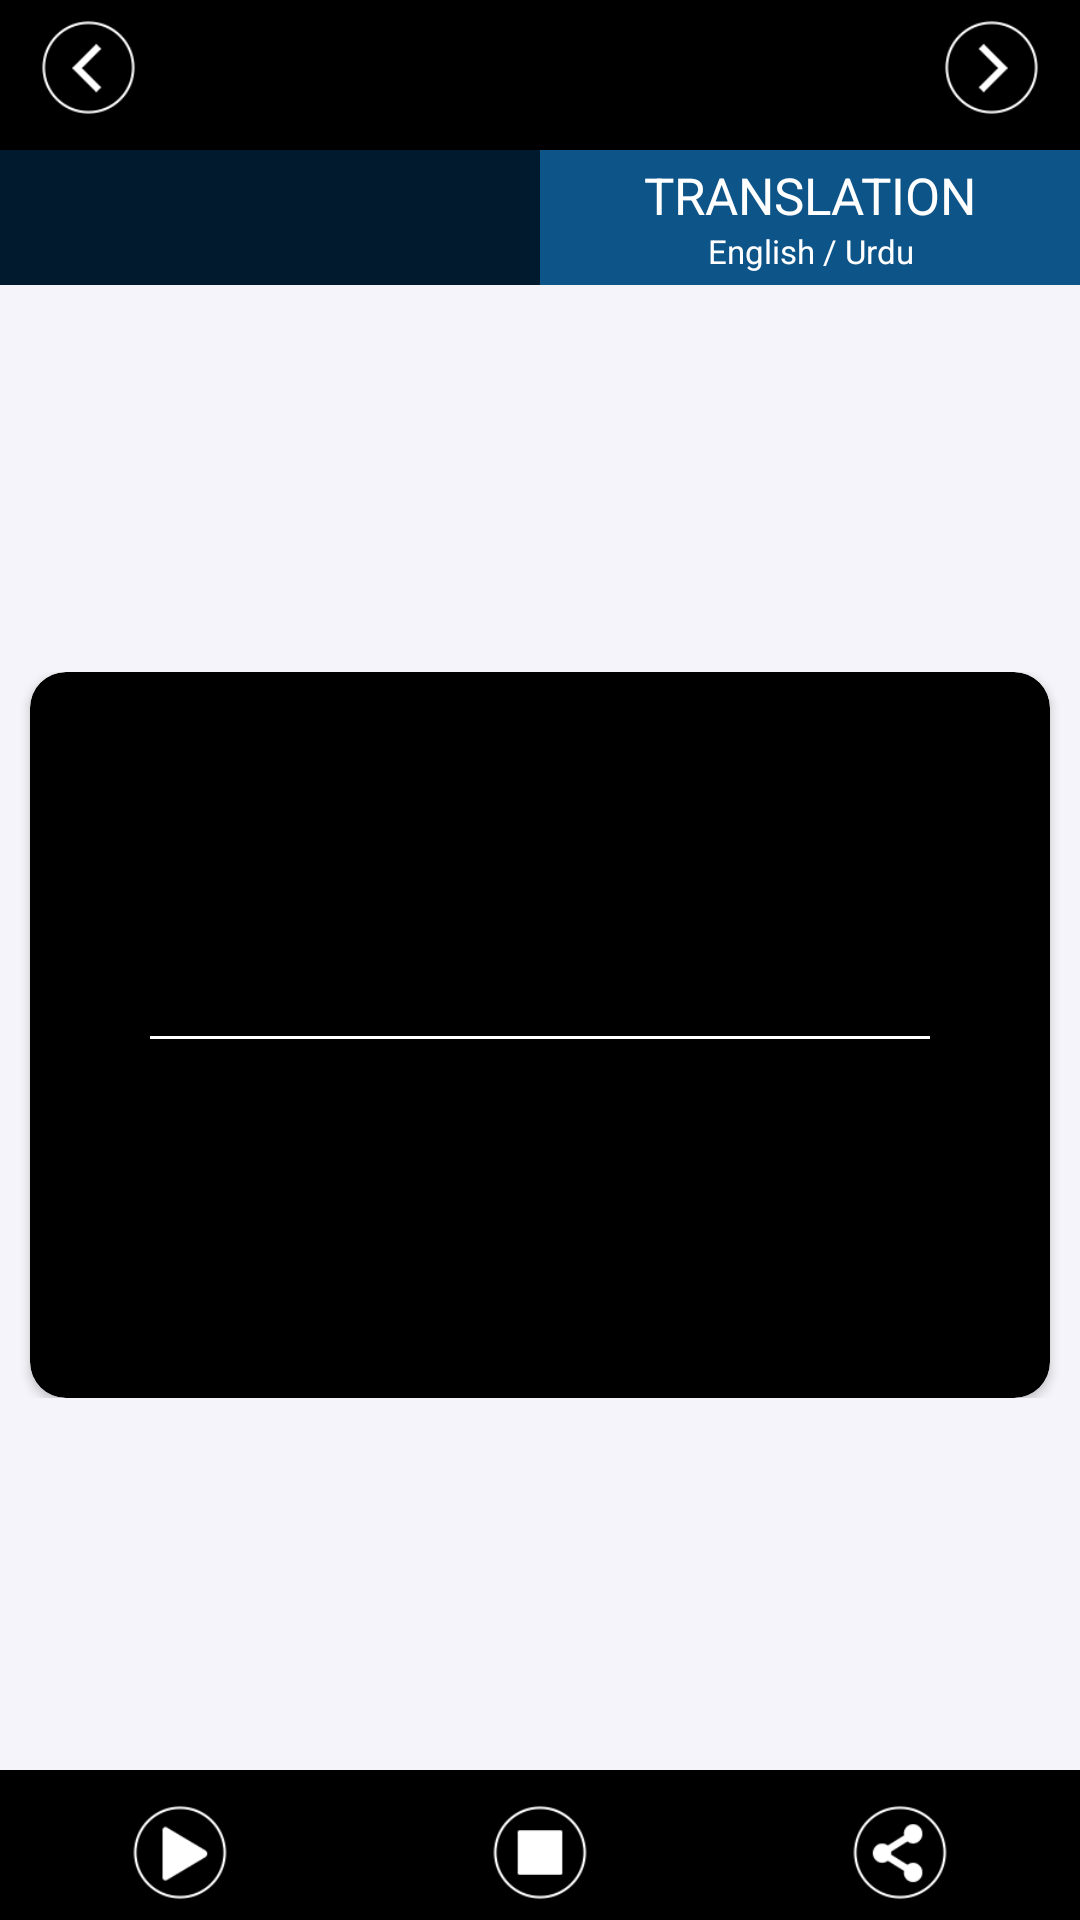

Icons on this 1080px×1920px Android screen, each with the point to tap as (x=x, y=y):
next: (x=991, y=67)
play: (x=180, y=1852)
prev: (x=88, y=67)
share: (x=900, y=1852)
stop: (x=540, y=1852)
